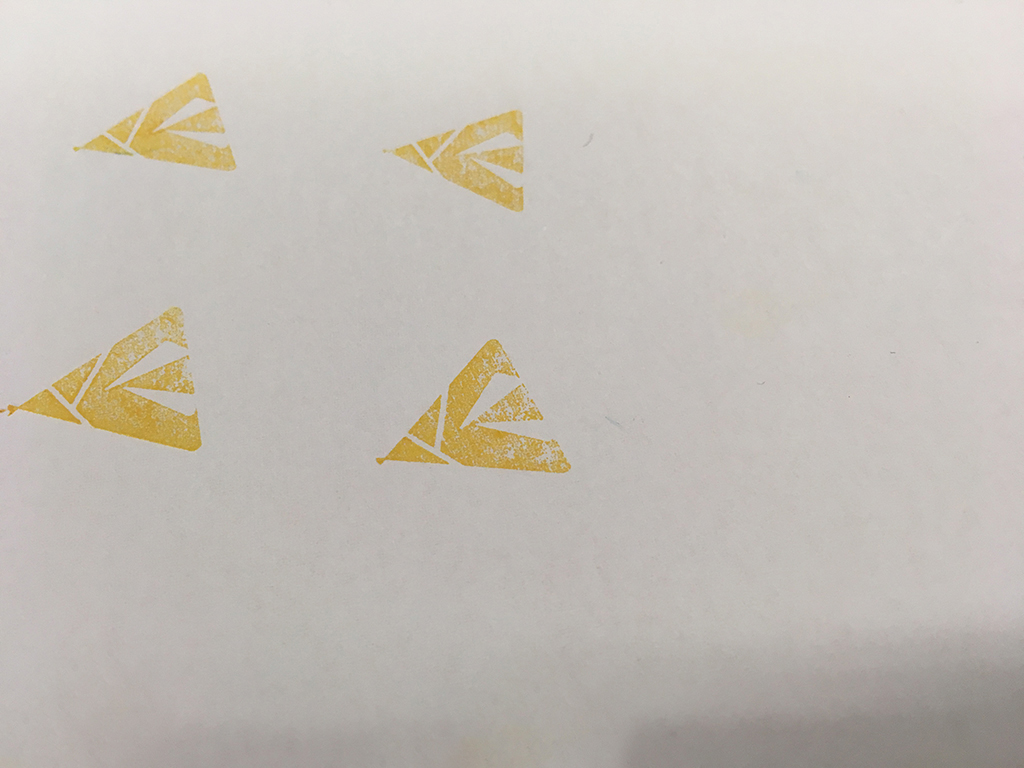tent: (1, 300, 208, 459), (370, 333, 580, 485), (66, 64, 245, 176), (377, 110, 532, 217)
